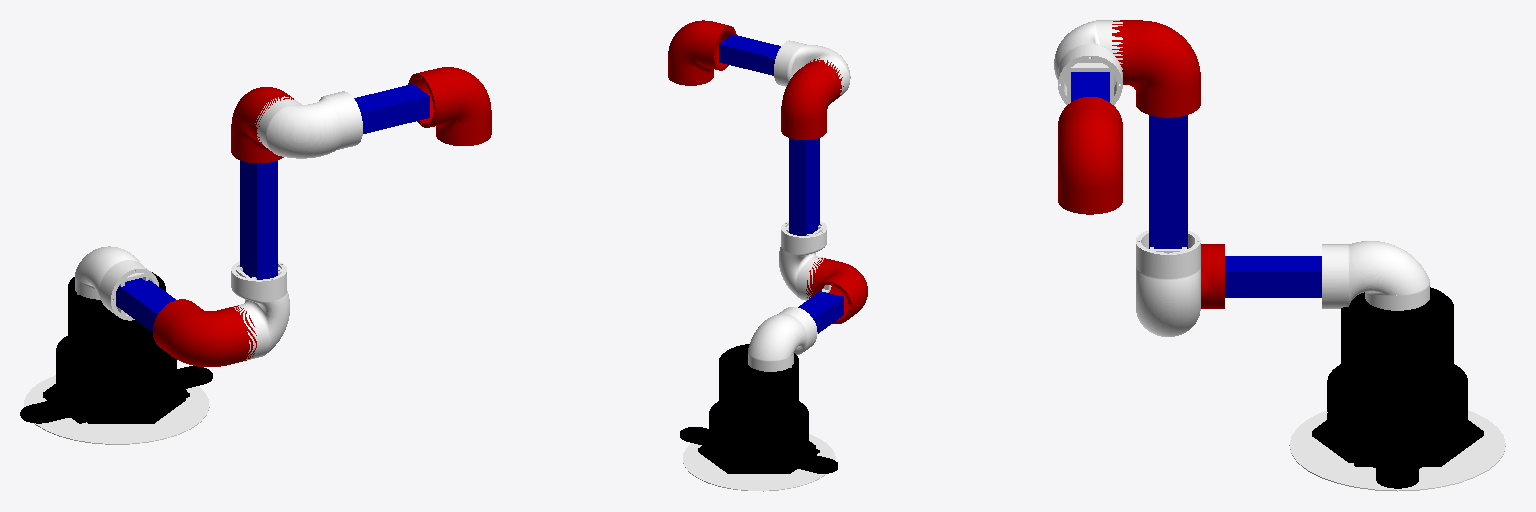
The robot description file, URDF, robot "node80":
<?xml version="1.0"?>
<robot  name="node80" >
 <material  name="blue" >
  <color  rgba="0 0 0.8 1.0" />
 </material>
 <material  name="red" >
  <color  rgba="0.8 0 0 1.0" />
 </material>
 <material  name="white" >
  <color  rgba="1.0 1.0 1.0 0.4" />
 </material>
 <material  name="black" >
  <color  rgba="0.0 0.0 0.0 1.0" />
 </material>
 <link  name="root_mod" >
  <visual >
   <origin  xyz="0 0 0"  rpy="0 0 0" />
   <material  name="white" />
   <geometry >
    <cylinder  length="0.001"  radius="0.1" />
   </geometry>
  </visual>
 </link>
 <link  name="baseMod_1" >
  <inertial >
   <origin  xyz="0.0 1.2212453270876722e-17 0.055"  rpy="1.5707963267948963 0.0 0.0" />
   <mass  value="1.245" />
   <inertia  iyz="1.5e-05"  ixx="0.002797"  ixz="-0.0"  ixy="-0.0"  izz="0.003107"  iyy="0.002417" />
  </inertial>
  <visual >
   <origin  xyz="0.0 1.2212453270876722e-17 0.055"  rpy="1.5707963267948963 0.0 0.0" />
   <material  name="black" />
   <geometry >
    <mesh  filename="./meshes/base-big-360.obj"  scale="0.001 0.001 0.001" />
   </geometry>
  </visual>
 </link>
 <joint  name="joint_1_fixed"  type="fixed" >
  <parent  link="root_mod" />
  <child  link="baseMod_1" />
  <origin  xyz="0.0 0.0 0.01"  rpy="0 0 0" />
  <limit  velocity="10"  upper="3.14"  effort="50"  lower="-3.14" />
 </joint>
 <link  name="connMod_2" >
  <inertial >
   <origin  xyz="0.0 4.440892098500626e-18 0.02"  rpy="1.5707963267948963 0.0 0.0" />
   <mass  value="0.263" />
   <inertia  iyz="-1.5e-05"  ixx="0.000226"  ixz="-0.0"  ixy="0.0"  izz="0.000125"  iyy="0.00023" />
  </inertial>
  <visual >
   <origin  xyz="0.0 4.440892098500626e-18 0.02"  rpy="1.5707963267948963 0.0 0.0" />
   <material  name="white" />
   <geometry >
    <mesh  filename="./meshes/90-connector.obj"  scale="0.001 0.001 0.001" />
   </geometry>
  </visual>
 </link>
 <joint  name="joint_2_revolute"  type="revolute" >
  <parent  link="baseMod_1" />
  <child  link="connMod_2" />
  <origin  xyz="-0.0175 2.964295475749168e-17 0.1335"  rpy="0 0 0" />
  <axis  xyz="0.0 0.0 1.0" />
  <limit  effort="50"  upper="3.14"  velocity="10"  lower="-3.14" />
 </joint>
 <transmission  name="act_joint_2_revolute" >
  <type  xmltext="SimpleTransmission" >
   SimpleTransmission
  </type>
  <actuator  name="trans_joint_2_revolute" >
   <mechanicalreduction  xmltext="1" >
    1
   </mechanicalreduction>
  </actuator>
  <joint  name="joint_2_revolute" />
 </transmission>
 <link  name="linkMod_3" >
  <inertial >
   <origin  xyz="-1.3766765505351941e-17 0.062 0.0"  rpy="0.0 0.0 -1.5707963267948963" />
   <mass  value="0.05" />
   <inertia  iyz="0.0"  ixx="6.5e-05"  ixz="0.0"  ixy="0.0"  izz="0.000206"  iyy="0.000206" />
  </inertial>
  <visual >
   <origin  xyz="-1.3766765505351941e-17 0.062 0.0"  rpy="0.0 0.0 -1.5707963267948963" />
   <material  name="blue" />
   <geometry >
    <mesh  filename="./meshes/link-100.obj"  scale="0.001 0.001 0.001" />
   </geometry>
  </visual>
 </link>
 <joint  name="joint_3_fixed"  type="fixed" >
  <parent  link="connMod_2" />
  <child  link="linkMod_3" />
  <origin  xyz="0.0 -0.05999999999999999 0.020000000000000014"  rpy="0 0 0" />
  <axis  xyz="0.0 -1.0 0.0" />
  <limit  velocity="10"  upper="3.14"  effort="50"  lower="-3.14" />
 </joint>
 <link  name="jointMod_4" >
  <inertial >
   <origin  xyz="-1.1546319456101627e-17 -0.052 0.0"  rpy="0.0 0.0 1.5707963267948963" />
   <mass  value="0.184" />
   <inertia  iyz="0.0"  ixx="7.8e-05"  ixz="-0.0"  ixy="-1.3e-05"  izz="9e-05"  iyy="7.8e-05" />
  </inertial>
  <visual >
   <origin  xyz="-1.1546319456101627e-17 -0.052 0.0"  rpy="0.0 0.0 1.5707963267948963" />
   <material  name="red" />
   <geometry >
    <mesh  filename="./meshes/90-joint.obj"  scale="0.001 0.001 0.001" />
   </geometry>
  </visual>
 </link>
 <joint  name="joint_4_fixed"  type="fixed" >
  <parent  link="linkMod_3" />
  <child  link="jointMod_4" />
  <origin  xyz="2.2204460492503132e-17 -0.1 0.0"  rpy="0 0 0" />
  <axis  xyz="0.0 -1.0 0.0" />
  <limit  effort="50"  upper="3.14"  velocity="10"  lower="-3.14" />
 </joint>
 <link  name="connMod_5" >
  <inertial >
   <origin  xyz="0.02 4.440892098500626e-18 0.0"  rpy="0.0 0.0 -1.5707963267948963" />
   <mass  value="0.263" />
   <inertia  iyz="-1.5e-05"  ixx="0.000226"  ixz="-0.0"  ixy="0.0"  izz="0.000125"  iyy="0.00023" />
  </inertial>
  <visual >
   <origin  xyz="0.02 4.440892098500626e-18 0.0"  rpy="0.0 0.0 -1.5707963267948963" />
   <material  name="white" />
   <geometry >
    <mesh  filename="./meshes/90-connector.obj"  scale="0.001 0.001 0.001" />
   </geometry>
  </visual>
 </link>
 <joint  name="joint_5_revolute"  type="revolute" >
  <parent  link="jointMod_4" />
  <child  link="connMod_5" />
  <origin  xyz="0.051999999999999984 -0.05200000000000001 0.0"  rpy="0 0 0" />
  <axis  xyz="1.0 -0.0 0.0" />
  <limit  velocity="10"  upper="3.14"  effort="50"  lower="-3.14" />
 </joint>
 <transmission  name="act_joint_5_revolute" >
  <type  xmltext="SimpleTransmission" >
   SimpleTransmission
  </type>
  <actuator  name="trans_joint_5_revolute" >
   <mechanicalreduction  xmltext="1" >
    1
   </mechanicalreduction>
  </actuator>
  <joint  name="joint_5_revolute" />
 </transmission>
 <link  name="linkMod_6" >
  <inertial >
   <origin  xyz="-1.3766765505351941e-17 0.0 -0.062"  rpy="0.0 -1.5707963267948966 0.0" />
   <mass  value="0.167" />
   <inertia  iyz="0.0"  ixx="2.7e-05"  ixz="0.0"  ixy="0.0"  izz="0.000331"  iyy="0.000322" />
  </inertial>
  <visual >
   <origin  xyz="-1.3766765505351941e-17 0.0 -0.062"  rpy="0.0 -1.5707963267948966 0.0" />
   <material  name="blue" />
   <geometry >
    <mesh  filename="./meshes/link-150.obj"  scale="0.001 0.001 0.001" />
   </geometry>
  </visual>
 </link>
 <joint  name="joint_6_fixed"  type="fixed" >
  <parent  link="connMod_5" />
  <child  link="linkMod_6" />
  <origin  xyz="0.02 4.440892098500626e-18 0.06"  rpy="0 0 0" />
  <axis  xyz="0.0 0.0 1.0" />
  <limit  effort="50"  upper="3.14"  velocity="10"  lower="-3.14" />
 </joint>
 <link  name="jointMod_7" >
  <inertial >
   <origin  xyz="-1.1546319456101627e-17 0.0 0.052"  rpy="-0.0 1.5707963267948966 0.0" />
   <mass  value="0.184" />
   <inertia  iyz="0.0"  ixx="7.8e-05"  ixz="-0.0"  ixy="-1.3e-05"  izz="9e-05"  iyy="7.8e-05" />
  </inertial>
  <visual >
   <origin  xyz="-1.1546319456101627e-17 0.0 0.052"  rpy="-0.0 1.5707963267948966 0.0" />
   <material  name="red" />
   <geometry >
    <mesh  filename="./meshes/90-joint.obj"  scale="0.001 0.001 0.001" />
   </geometry>
  </visual>
 </link>
 <joint  name="joint_7_fixed"  type="fixed" >
  <parent  link="linkMod_6" />
  <child  link="jointMod_7" />
  <origin  xyz="3.3306690738754695e-17 0.0 0.15"  rpy="0 0 0" />
  <axis  xyz="0.0 0.0 1.0" />
  <limit  velocity="10"  upper="3.14"  effort="50"  lower="-3.14" />
 </joint>
 <link  name="connMod_8" >
  <inertial >
   <origin  xyz="2.49954083116211e-10 -0.01999999999999999 -2.499540824390027e-10"  rpy="-3.141592641092089 -1.5707963009853283 0.0" />
   <mass  value="0.263" />
   <inertia  iyz="-1.5e-05"  ixx="0.000226"  ixz="-0.0"  ixy="0.0"  izz="0.000125"  iyy="0.00023" />
  </inertial>
  <visual >
   <origin  xyz="2.49954083116211e-10 -0.01999999999999999 -2.499540824390027e-10"  rpy="-3.141592641092089 -1.5707963009853283 0.0" />
   <material  name="white" />
   <geometry >
    <mesh  filename="./meshes/90-connector.obj"  scale="0.001 0.001 0.001" />
   </geometry>
  </visual>
 </link>
 <joint  name="joint_8_revolute"  type="revolute" >
  <parent  link="jointMod_7" />
  <child  link="connMod_8" />
  <origin  xyz="-1.1546319456101627e-17 -0.052 0.052"  rpy="0 0 0" />
  <axis  xyz="0.0 -1.0 0.0" />
  <limit  effort="50"  upper="3.14"  velocity="10"  lower="-3.14" />
 </joint>
 <transmission  name="act_joint_8_revolute" >
  <type  xmltext="SimpleTransmission" >
   SimpleTransmission
  </type>
  <actuator  name="trans_joint_8_revolute" >
   <mechanicalreduction  xmltext="1" >
    1
   </mechanicalreduction>
  </actuator>
  <joint  name="joint_8_revolute" />
 </transmission>
 <link  name="linkMod_9" >
  <inertial >
   <origin  xyz="-0.062 0.0 0.0"  rpy="0.0 0.0 0.0" />
   <mass  value="0.05" />
   <inertia  iyz="0.0"  ixx="6.5e-05"  ixz="0.0"  ixy="0.0"  izz="0.000206"  iyy="0.000206" />
  </inertial>
  <visual >
   <origin  xyz="-0.062 0.0 0.0"  rpy="0.0 0.0 0.0" />
   <material  name="blue" />
   <geometry >
    <mesh  filename="./meshes/link-100.obj"  scale="0.001 0.001 0.001" />
   </geometry>
  </visual>
 </link>
 <joint  name="joint_9_fixed"  type="fixed" >
  <parent  link="connMod_8" />
  <child  link="linkMod_9" />
  <origin  xyz="0.06000000024995406 -0.01999999925013774 -8.739423883000921e-11"  rpy="0 0 0" />
  <axis  xyz="1.0 0.0 0.0" />
  <limit  velocity="10"  upper="3.14"  effort="50"  lower="-3.14" />
 </joint>
 <link  name="jointMod_10" >
  <inertial >
   <origin  xyz="0.05199999999999998 6.498806161021487e-10 -6.498806143414067e-10"  rpy="1.5707963240855651 -1.2497703982816688e-08 -3.141592641092089" />
   <mass  value="0.184" />
   <inertia  iyz="0.0"  ixx="7.8e-05"  ixz="-0.0"  ixy="-1.3e-05"  izz="9e-05"  iyy="7.8e-05" />
  </inertial>
  <visual >
   <origin  xyz="0.05199999999999998 6.498806161021487e-10 -6.498806143414067e-10"  rpy="1.5707963240855651 -1.2497703982816688e-08 -3.141592641092089" />
   <material  name="red" />
   <geometry >
    <mesh  filename="./meshes/90-joint.obj"  scale="0.001 0.001 0.001" />
   </geometry>
  </visual>
 </link>
 <joint  name="joint_10_fixed"  type="fixed" >
  <parent  link="linkMod_9" />
  <child  link="jointMod_10" />
  <origin  xyz="0.1 0.0 0.0"  rpy="0 0 0" />
  <axis  xyz="1.0 0.0 0.0" />
  <limit  effort="50"  upper="3.14"  velocity="10"  lower="-3.14" />
 </joint>
 <link  name="eef" />
 <joint  name="eef_joint"  type="fixed" >
  <parent  link="jointMod_10" />
  <child  link="eef" />
  <origin  xyz="0.05199999935011936 7.907658404135524e-10 -0.0520000006498806"  rpy="0 0 0" />
  <axis  xyz="-0.0 0.0 -1.0" />
  <limit  velocity="10"  upper="3.14"  effort="50"  lower="-3.14" />
 </joint>
</robot>

--- What the picture shows (computed from the rendered views, not written in the file) ---
The picture shows the robot from 3 angles, left to right: view 1: azimuth 30°, elevation 25°; view 2: azimuth 150°, elevation 25°; view 3: azimuth 270°, elevation 25°; orthographic projection.
Model node80 with 12 links and 11 joints (3 revolute, 8 fixed), rooted at root_mod, posed all joints at 0.
Links seen in each view (by area): view 1: baseMod_1, connMod_8, jointMod_4, jointMod_10, linkMod_6, root_mod, connMod_5, connMod_2, linkMod_9, jointMod_7, linkMod_3; view 2: baseMod_1, jointMod_7, connMod_2, jointMod_10, linkMod_6, root_mod, connMod_5, jointMod_4, connMod_8, linkMod_9, linkMod_3; view 3: baseMod_1, jointMod_10, jointMod_7, connMod_2, root_mod, connMod_5, linkMod_6, linkMod_3, connMod_8, jointMod_4, linkMod_9.
Boxes of the visible links, bbox=[...] form: baseMod_1: bbox=[20, 272, 212, 423]; connMod_8: bbox=[255, 91, 362, 158]; jointMod_4: bbox=[153, 299, 256, 366]; jointMod_10: bbox=[408, 67, 491, 145]; linkMod_6: bbox=[240, 160, 277, 279]; root_mod: bbox=[24, 375, 209, 444]; connMod_5: bbox=[231, 261, 289, 359]; connMod_2: bbox=[75, 246, 158, 320]; linkMod_9: bbox=[354, 84, 429, 133]; jointMod_7: bbox=[231, 87, 293, 162]; linkMod_3: bbox=[116, 278, 175, 331]; baseMod_1: bbox=[680, 344, 837, 473]; jointMod_7: bbox=[781, 58, 843, 139]; connMod_2: bbox=[748, 307, 817, 371]; jointMod_10: bbox=[668, 20, 736, 85]; linkMod_6: bbox=[789, 138, 819, 235]; root_mod: bbox=[683, 434, 835, 491]; connMod_5: bbox=[779, 221, 831, 300]; jointMod_4: bbox=[806, 258, 867, 323]; connMod_8: bbox=[774, 40, 850, 95]; linkMod_9: bbox=[719, 34, 780, 75]; linkMod_3: bbox=[798, 291, 843, 333]; baseMod_1: bbox=[1312, 287, 1483, 488]; jointMod_10: bbox=[1058, 97, 1122, 214]; jointMod_7: bbox=[1112, 20, 1200, 117]; connMod_2: bbox=[1322, 241, 1429, 310]; root_mod: bbox=[1289, 410, 1505, 491]; connMod_5: bbox=[1136, 230, 1200, 336]; linkMod_6: bbox=[1149, 115, 1187, 248]; linkMod_3: bbox=[1225, 256, 1321, 297]; connMod_8: bbox=[1054, 20, 1122, 104]; jointMod_4: bbox=[1201, 244, 1224, 308]; linkMod_9: bbox=[1071, 72, 1109, 101].
Bounding box of the posed robot: 0.4128 × 0.4175 × 0.456 m (x, y, z).
10 mesh visuals loaded from 5 distinct referenced files (5 OBJ).